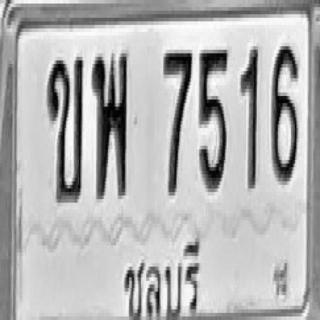A02: (46, 55, 83, 201)
A30: (92, 50, 127, 199)
N01: (240, 46, 258, 188)
N05: (199, 46, 228, 192)
N06: (271, 43, 298, 181)
N07: (162, 48, 192, 194)
